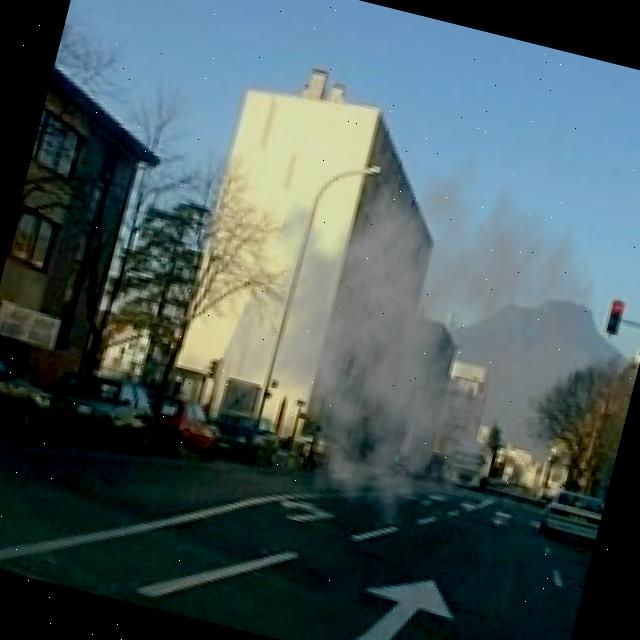smoke: (186, 87, 631, 567)
